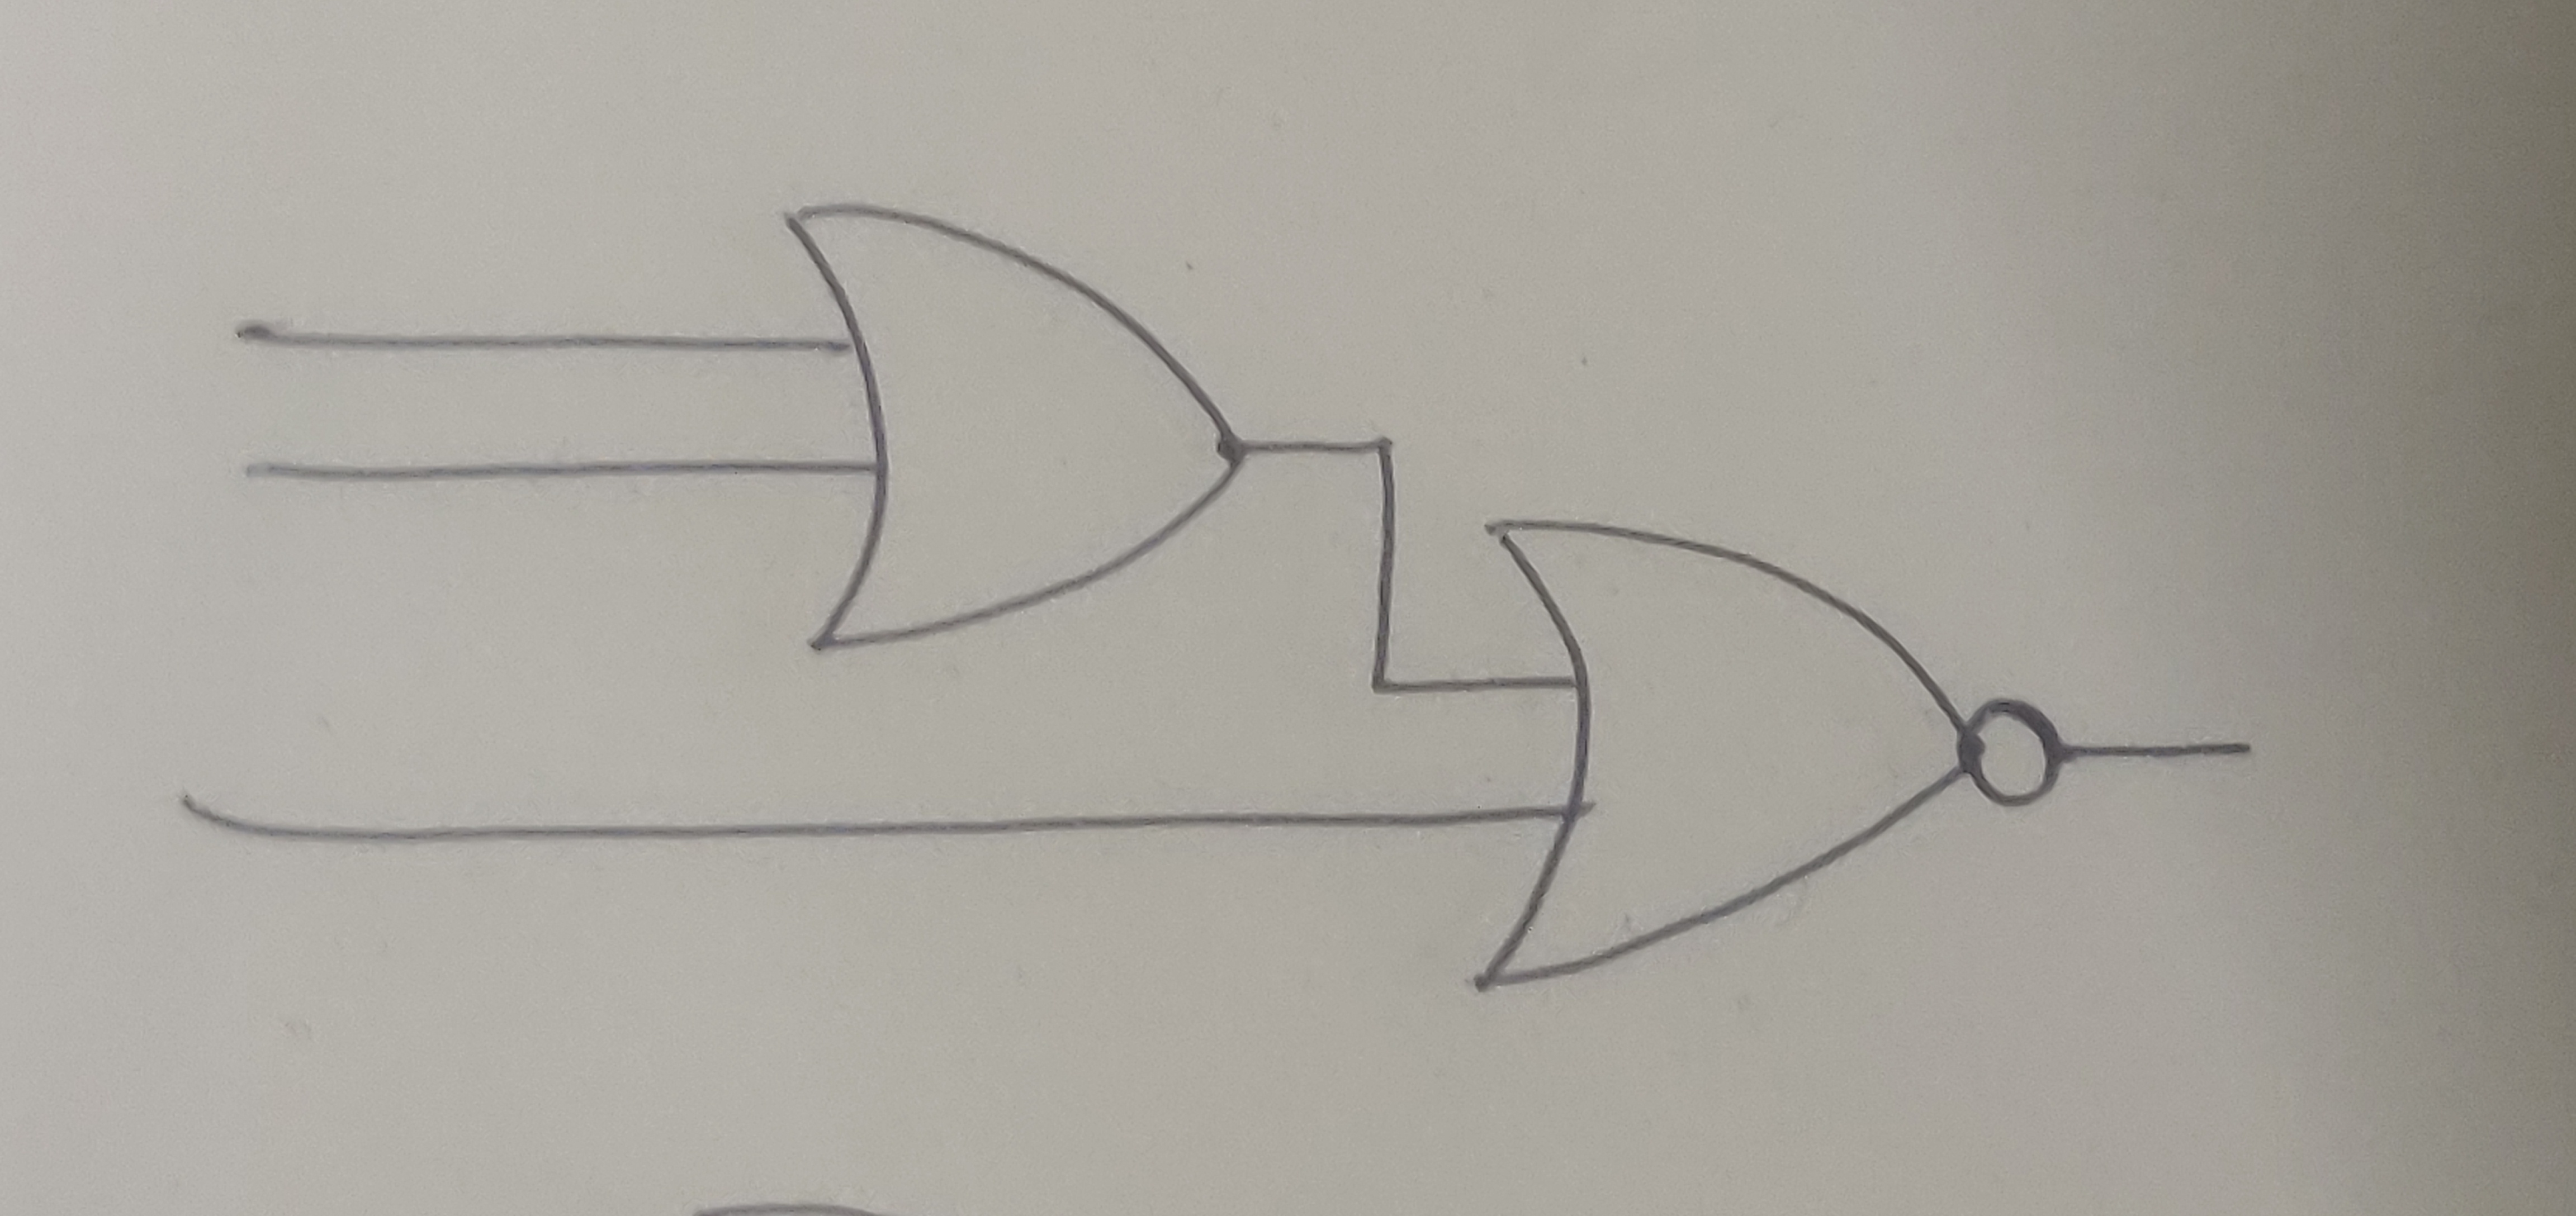not: (1958, 690, 2073, 815)
or: (1479, 509, 1971, 996), (775, 194, 1249, 661)
